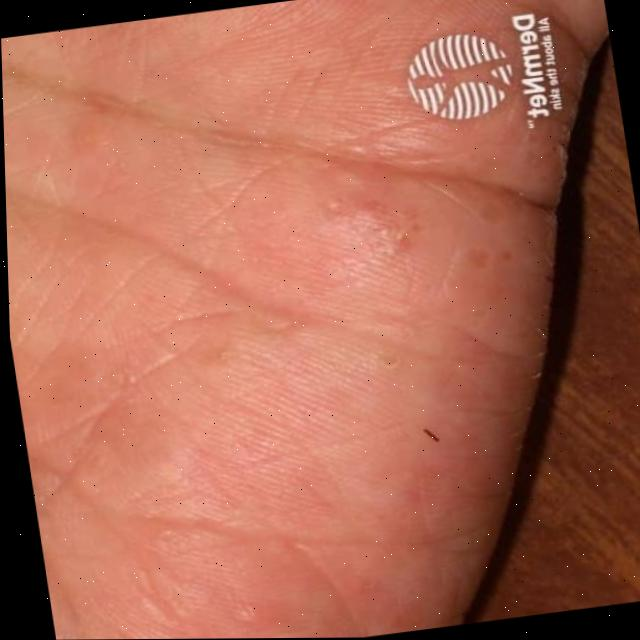Eczema: (153, 102, 602, 600)
